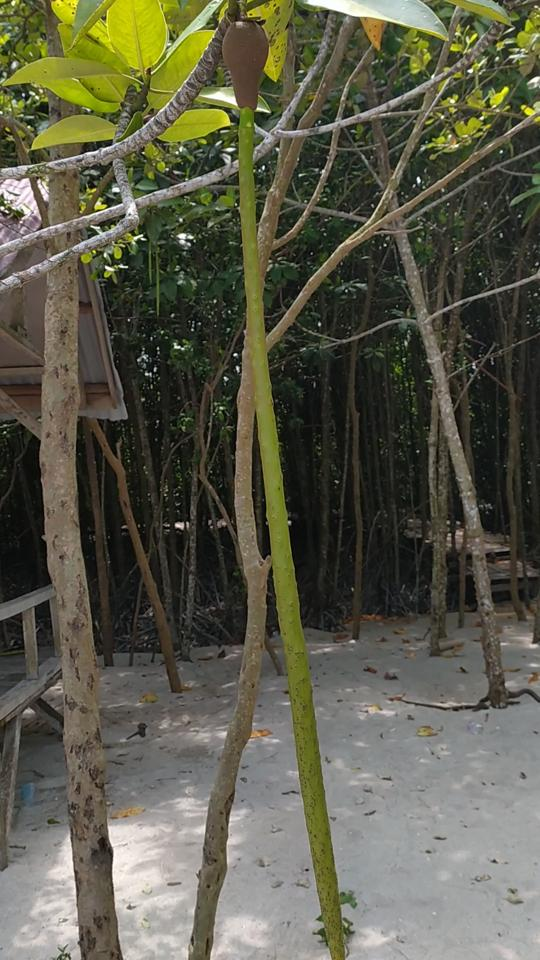mentah: (185, 12, 361, 955)
